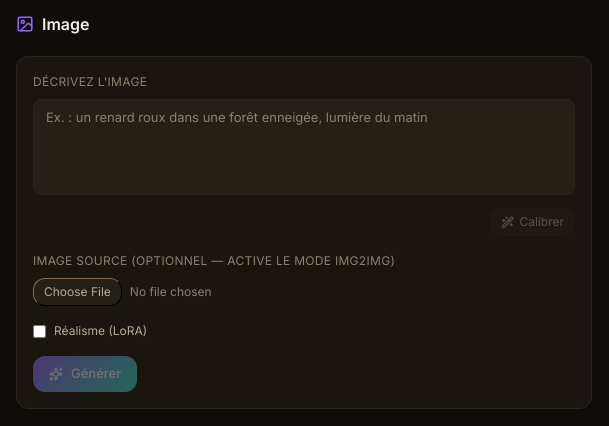
it: module image › désactive Générer sans prompt, l'active une fois saisi
The image size is (609, 426).
Expected: the button "Générer" is disabled, [33, 356, 137, 392]
Replace the text in the text box with placeholder "renard roux" with "un chat en aquarelle" at coordinates (304, 147), box [33, 99, 575, 195]
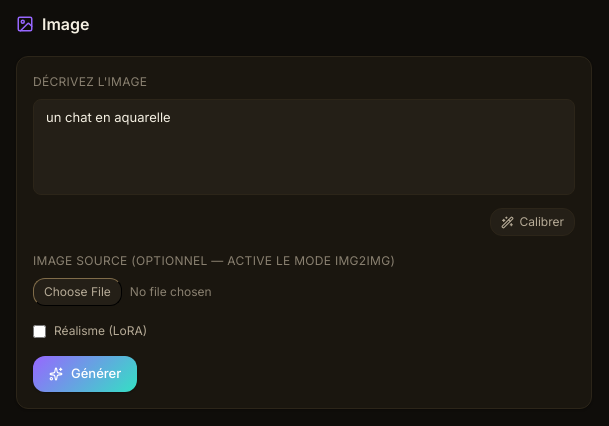
Result: the button "Générer" is enabled at [33, 356, 137, 392]
